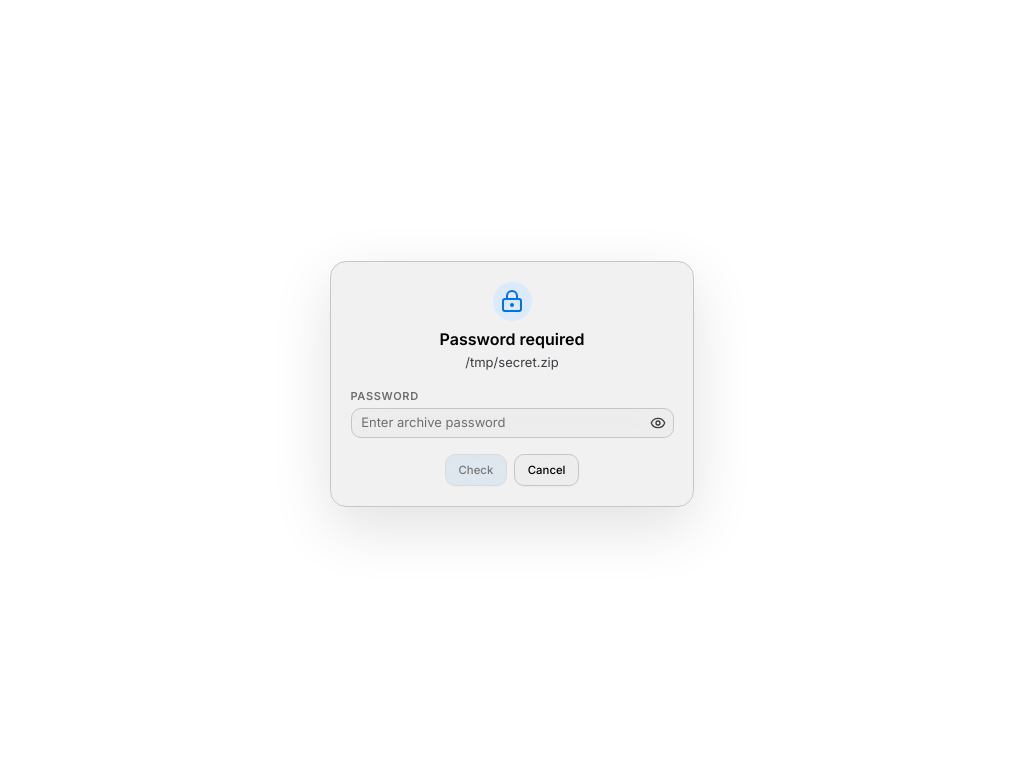
Test: PasswordDialog › should_shake_and_offer_retry_on_wrong_password
The image size is (1024, 768).
Type "nope" into the password field labelled "Password" at (499,423), box [352,413,646,433]
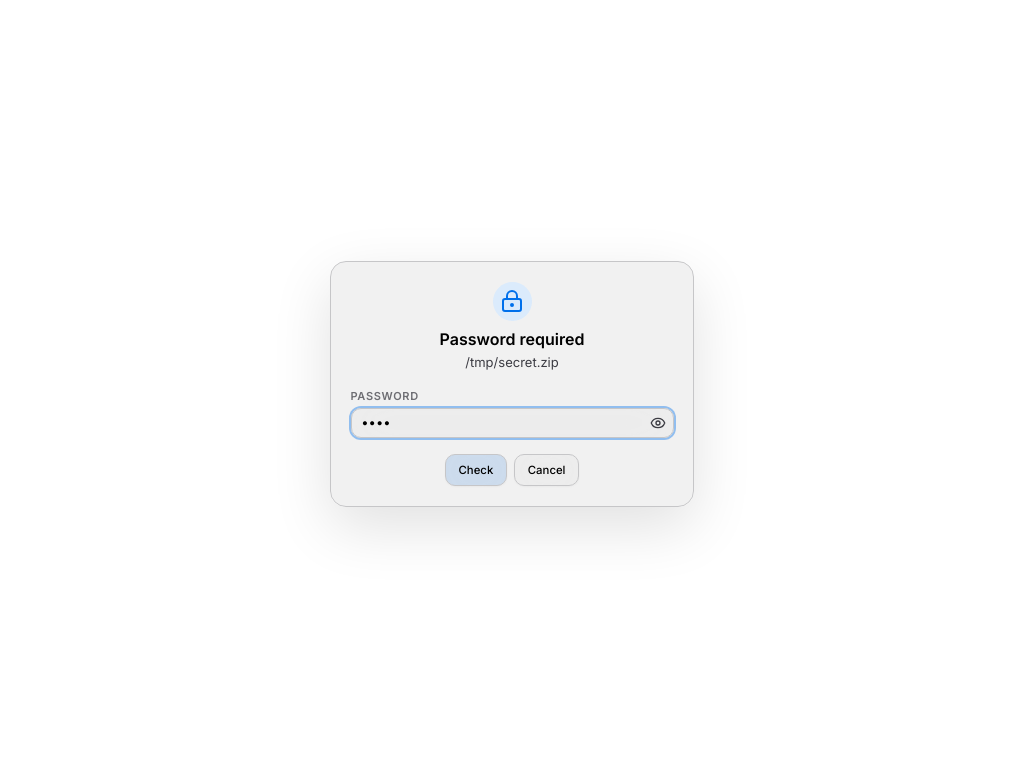
Click the button "Check" at (476,470), box [444,454,507,486]
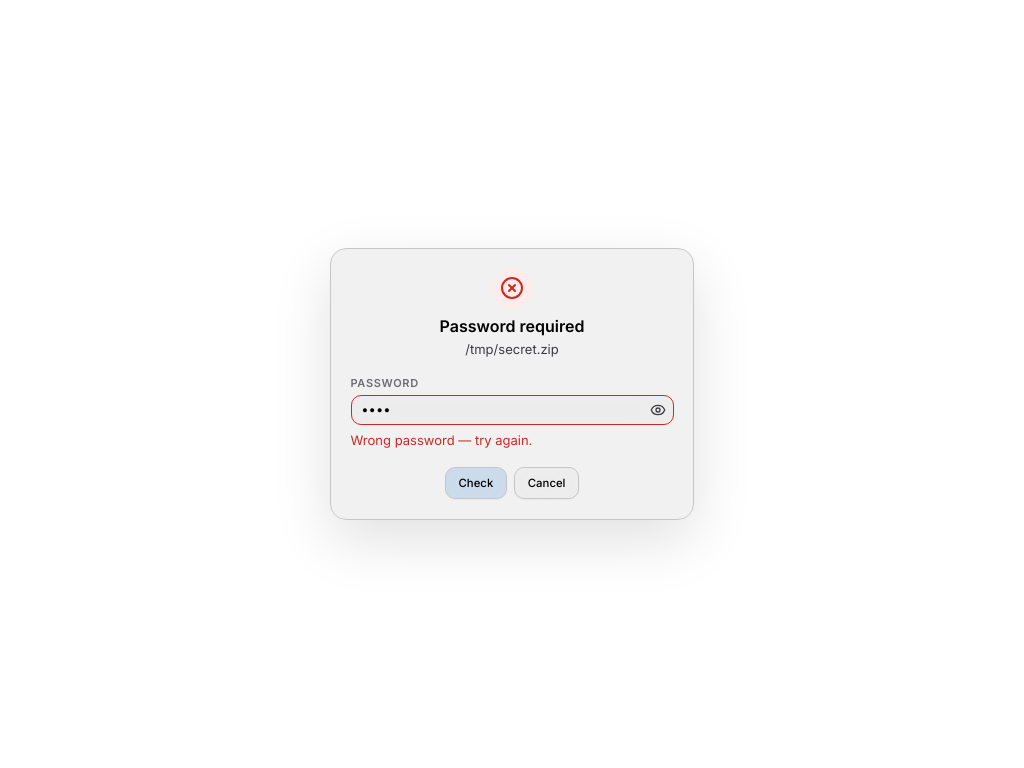
Expected: the button "Check" is shown, [444,467,507,499]
Now the text "Wrong password — try again." is shown, box [350,432,532,448]
